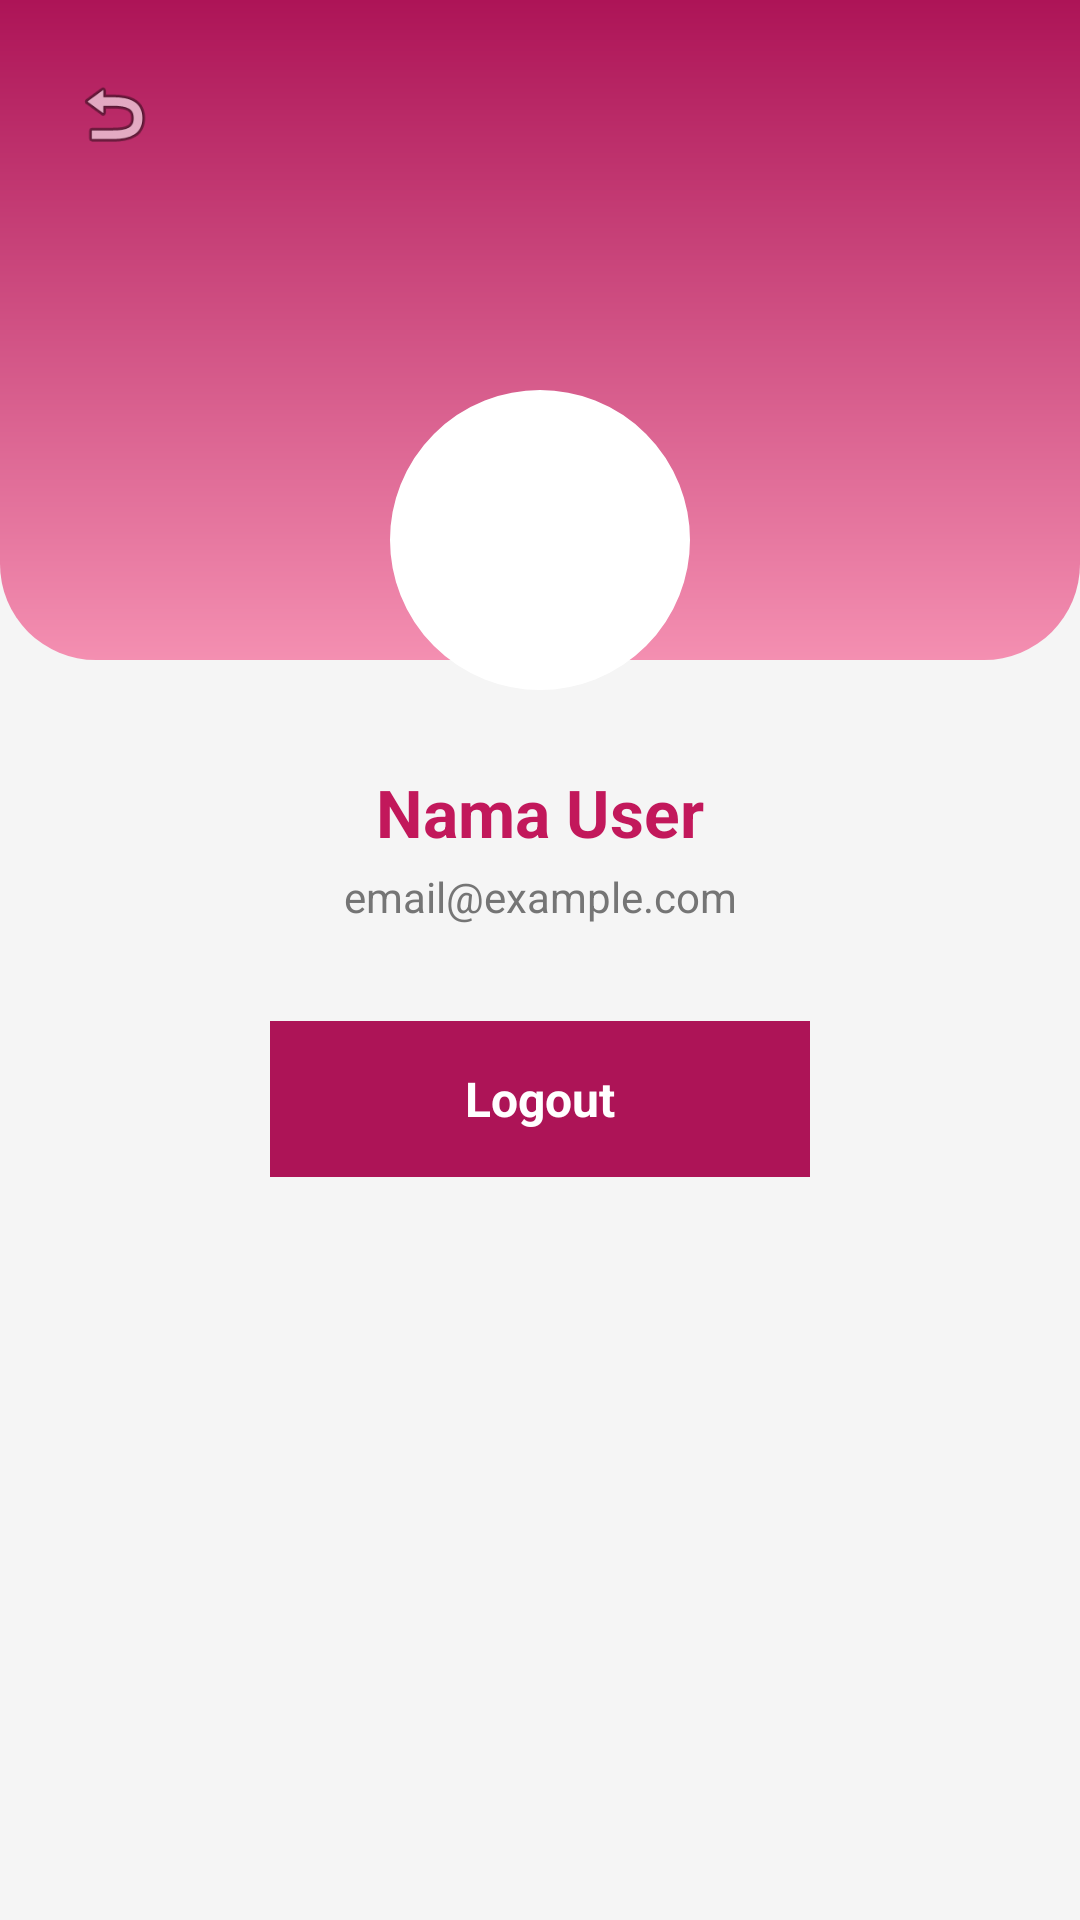

Screen size 1080x1920. Icon name, then its box in pixels as detection(x1, y1, x2, y2):
revert: detection(85, 87, 145, 142)
